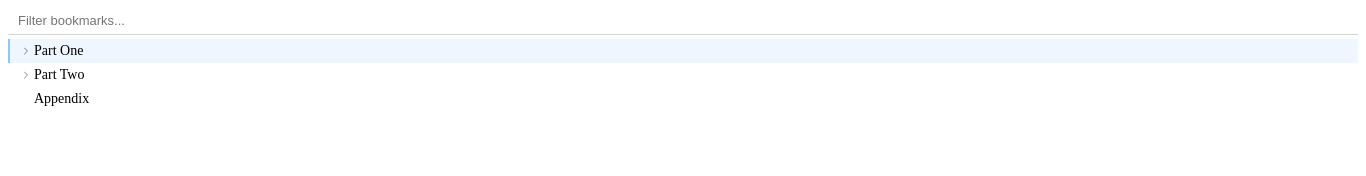
it: BookmarkPanel › renders children when expanded
Note: Click Part One to expand
Click the list item "Part One 1".
click(687, 51)  # box [8, 39, 1365, 63]
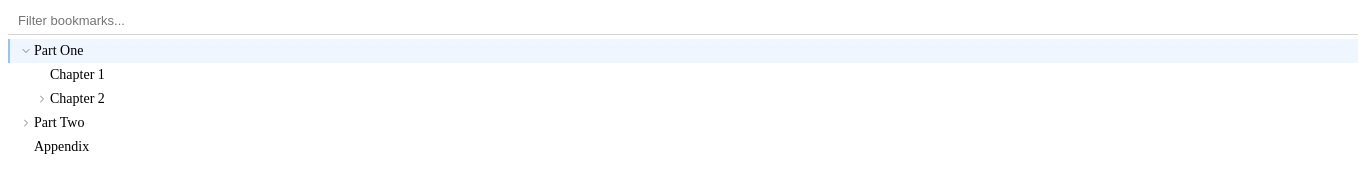
Expected: the number of list items is 5, [8, 39, 1358, 63]; [8, 63, 1358, 87]; [8, 87, 1358, 111]; [8, 111, 1358, 135]; [8, 135, 1358, 159]
